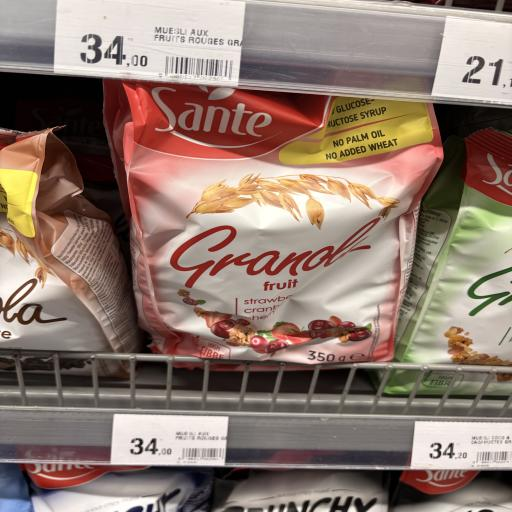granola: (73, 63, 464, 418)
